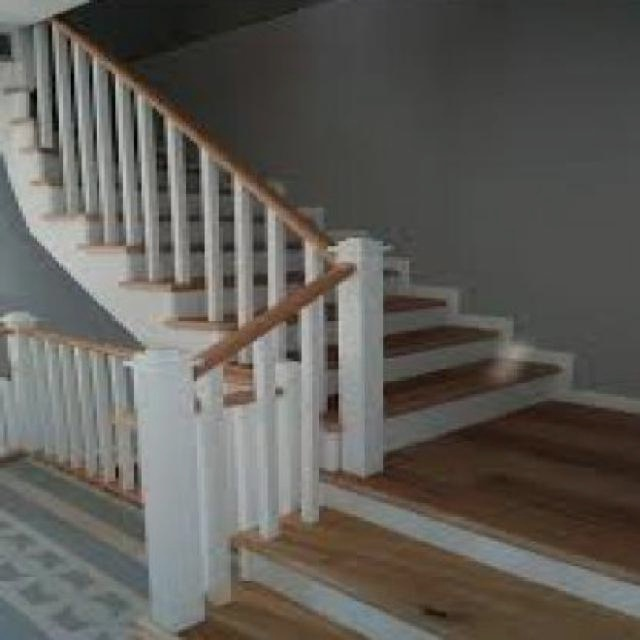stair: (0, 21, 637, 637)
